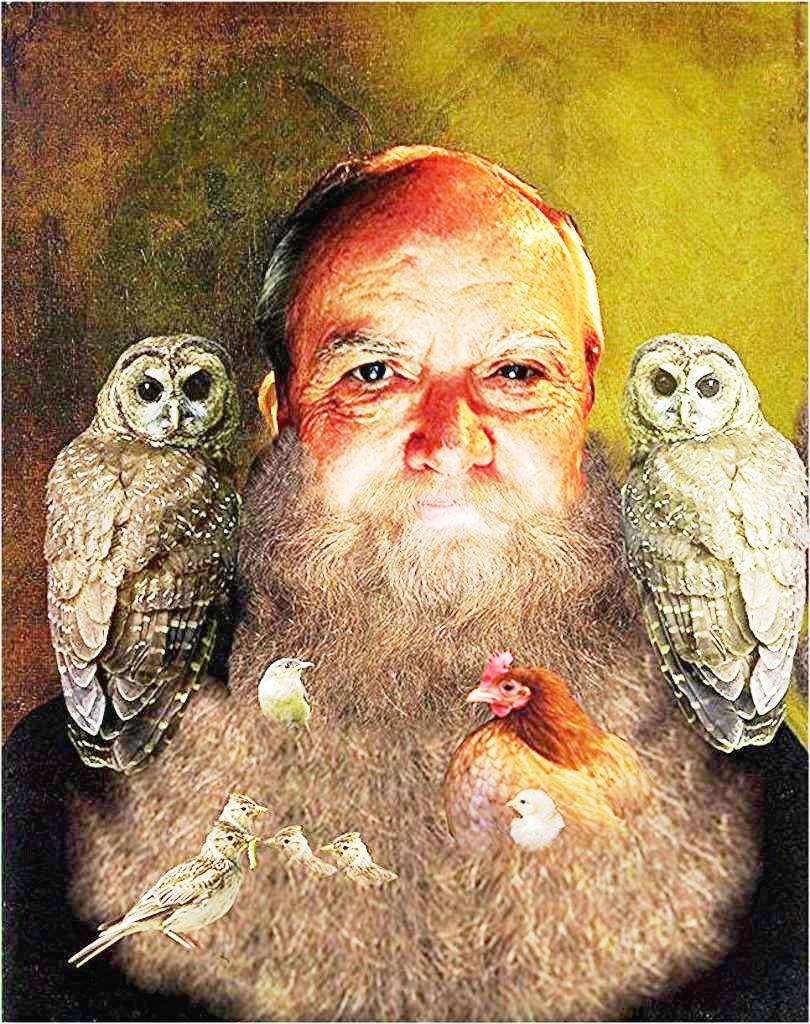Owl: (49, 334, 236, 782), (623, 333, 809, 759)
